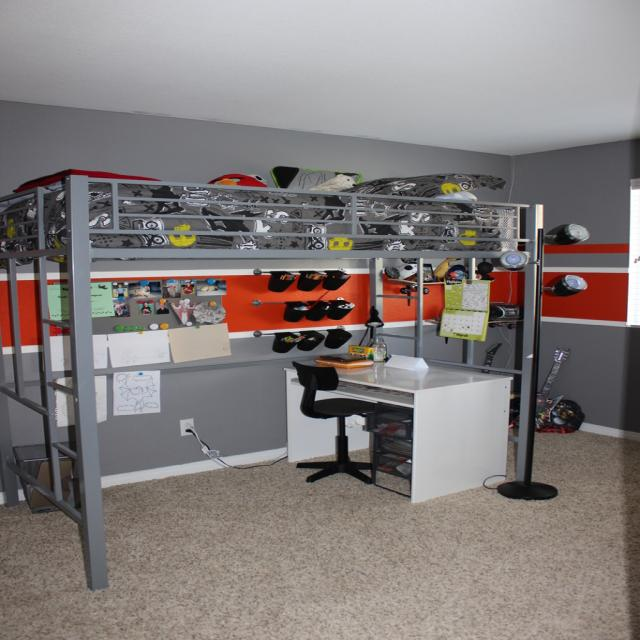chair: (288, 361, 374, 485)
desk: (281, 348, 540, 501)
